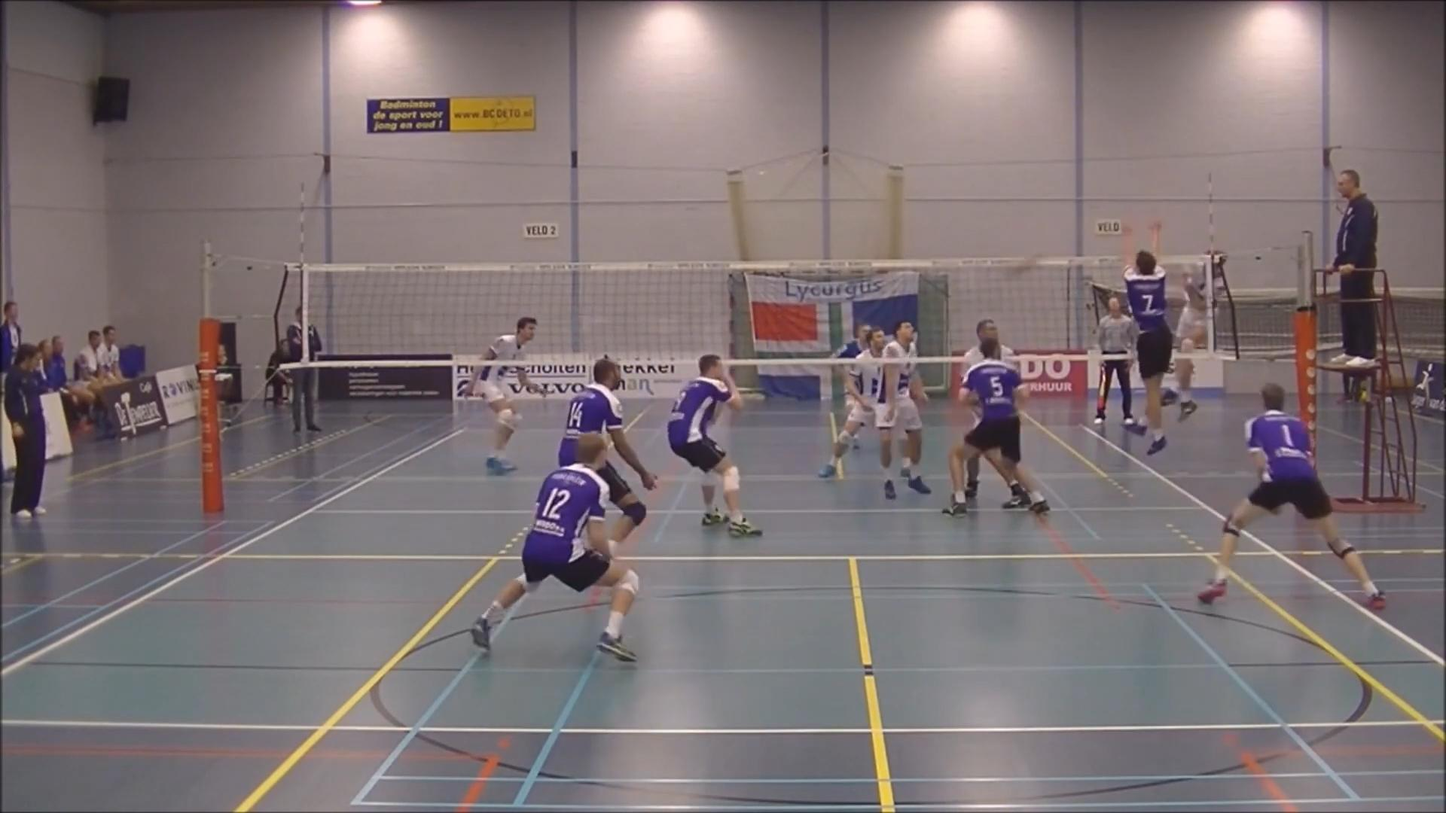attacco: (1169, 223, 1234, 430)
muro: (1105, 213, 1188, 460)
